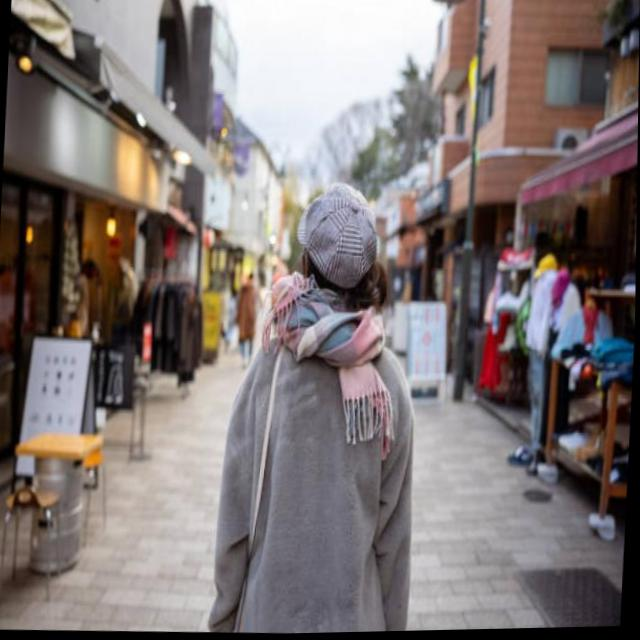no helmet: (291, 169, 389, 335)
